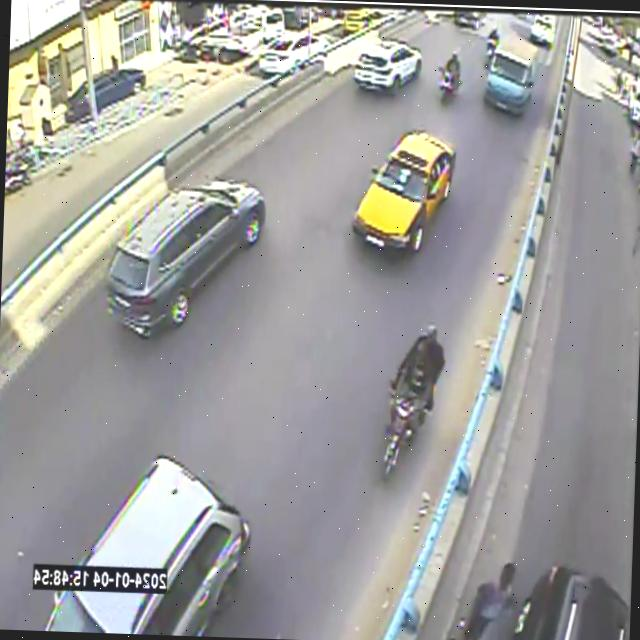car: (35, 456, 250, 635), (108, 177, 266, 336), (353, 129, 455, 250), (484, 38, 537, 113), (353, 41, 422, 93), (530, 17, 555, 48)
